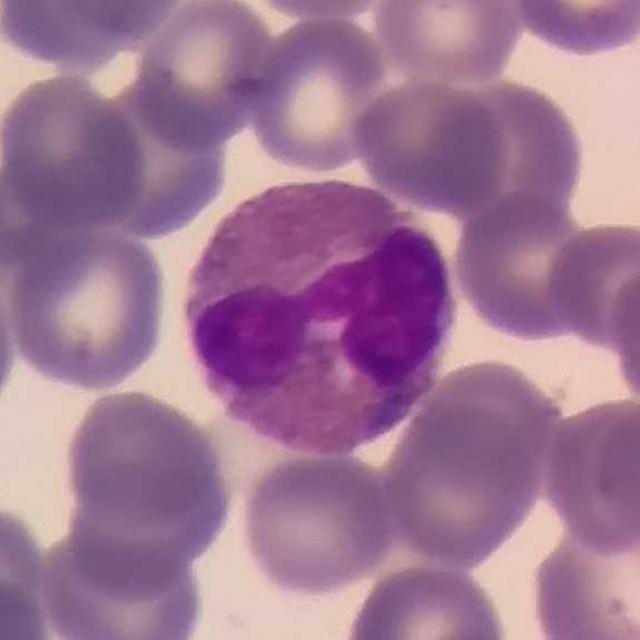Eosinophil: (190, 181, 458, 459)
RBC: (2, 220, 174, 394), (378, 396, 549, 569), (54, 444, 240, 598), (56, 385, 237, 540), (78, 77, 234, 240), (428, 75, 589, 232), (244, 10, 393, 177), (234, 447, 396, 600), (0, 69, 149, 234), (449, 188, 598, 345), (127, 0, 283, 149), (347, 74, 512, 214), (405, 355, 563, 500), (37, 533, 209, 639), (546, 393, 640, 554), (525, 510, 640, 640), (340, 560, 514, 640), (371, 0, 524, 87), (542, 216, 640, 351), (0, 0, 141, 74), (504, 0, 640, 59), (0, 498, 55, 636), (46, 0, 189, 48), (605, 257, 640, 419), (0, 250, 21, 436), (0, 574, 55, 639), (245, 0, 399, 20)
